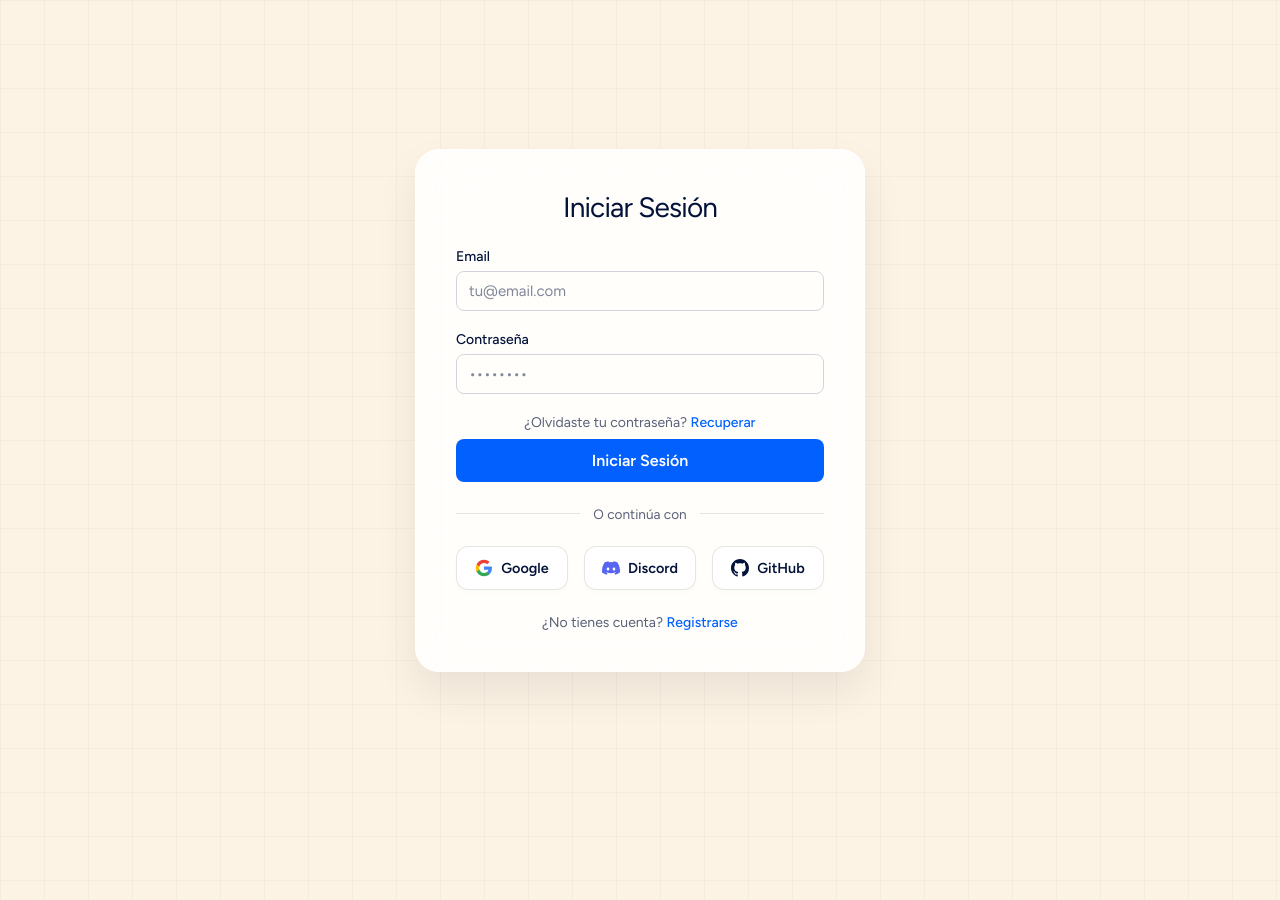
LoginForm › shows how long to wait after too many attempts
Type "estudiante@example.com" into the field labelled "Email".
click(640, 290); type("estudiante@example.com")  # box [456,270,824,310]
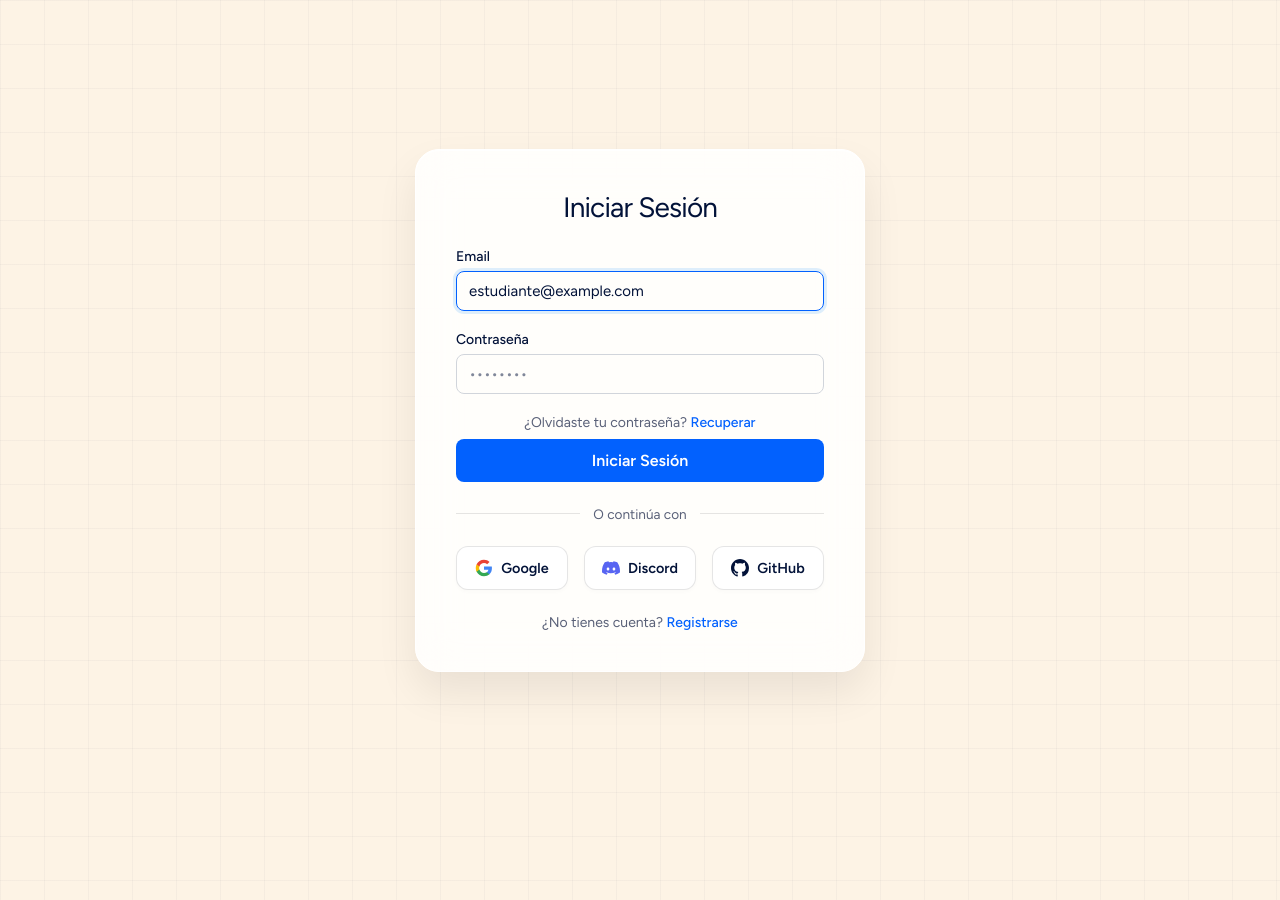
Type "segura" into the password field labelled "Contraseña".
click(640, 374); type("segura")  # box [456,354,824,394]
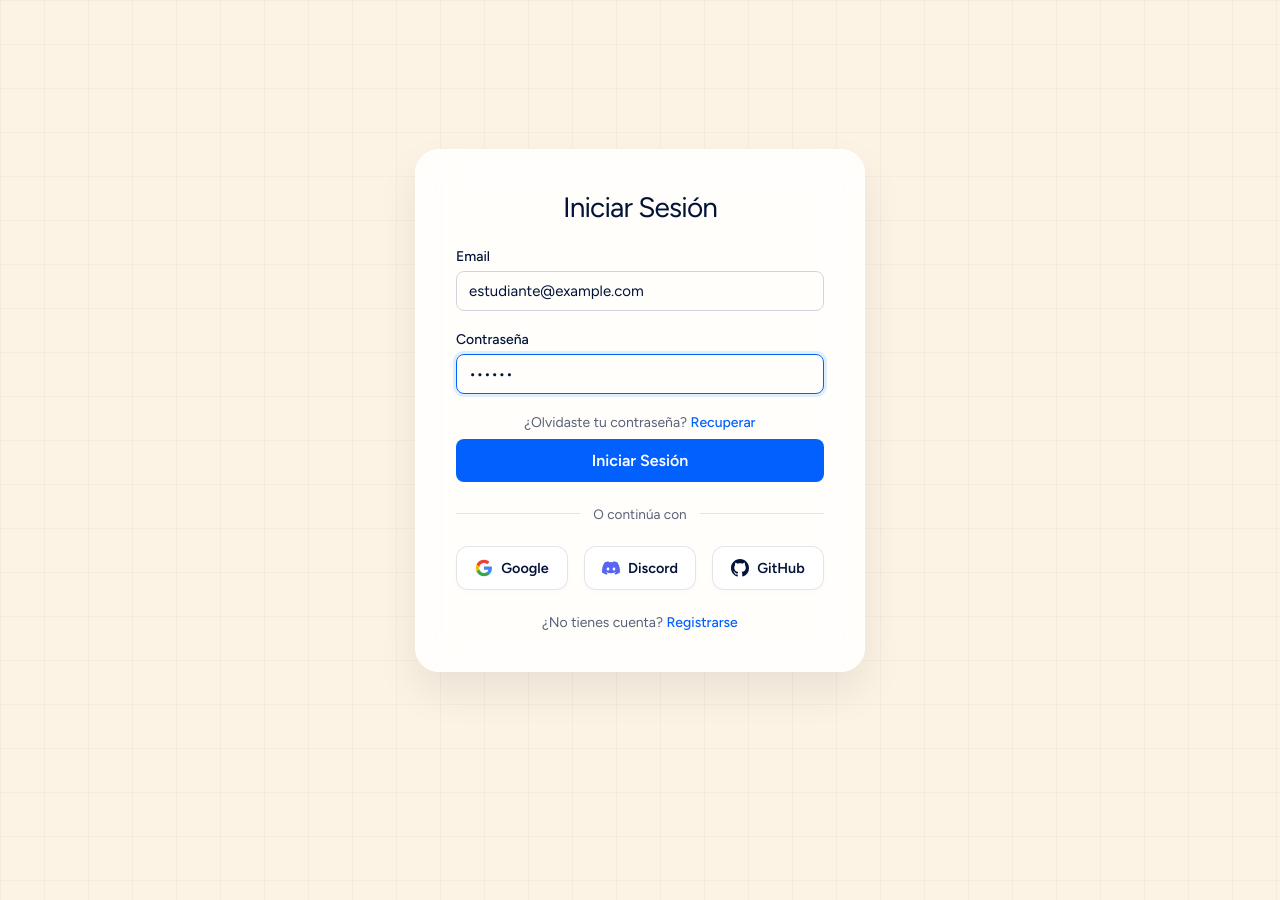
Click the button "Iniciar Sesión".
click(640, 460)  # box [456,438,824,482]
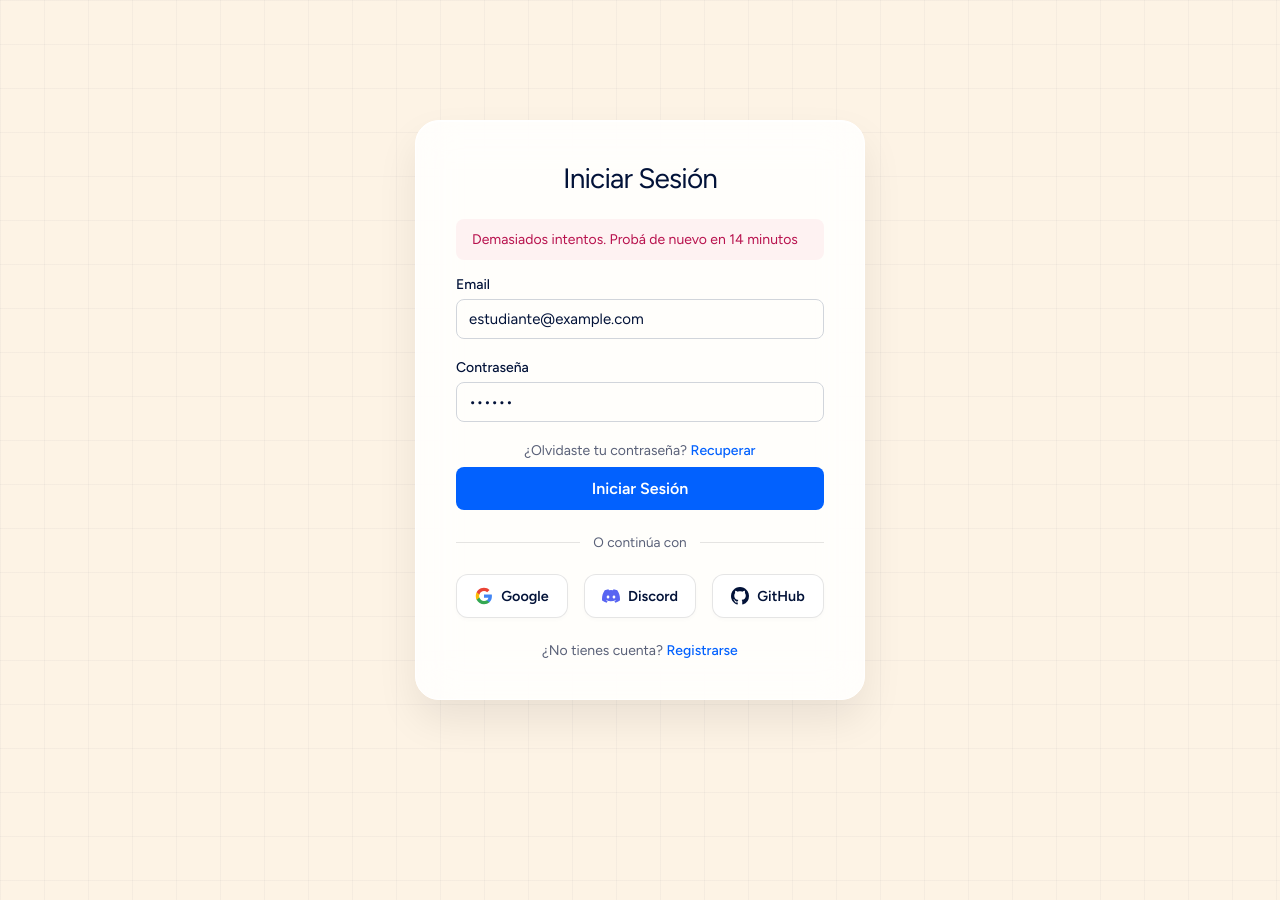
Expected: the text "Demasiados intentos. Probá de nuevo en 14 minutos" is shown, [456,219,824,260]
